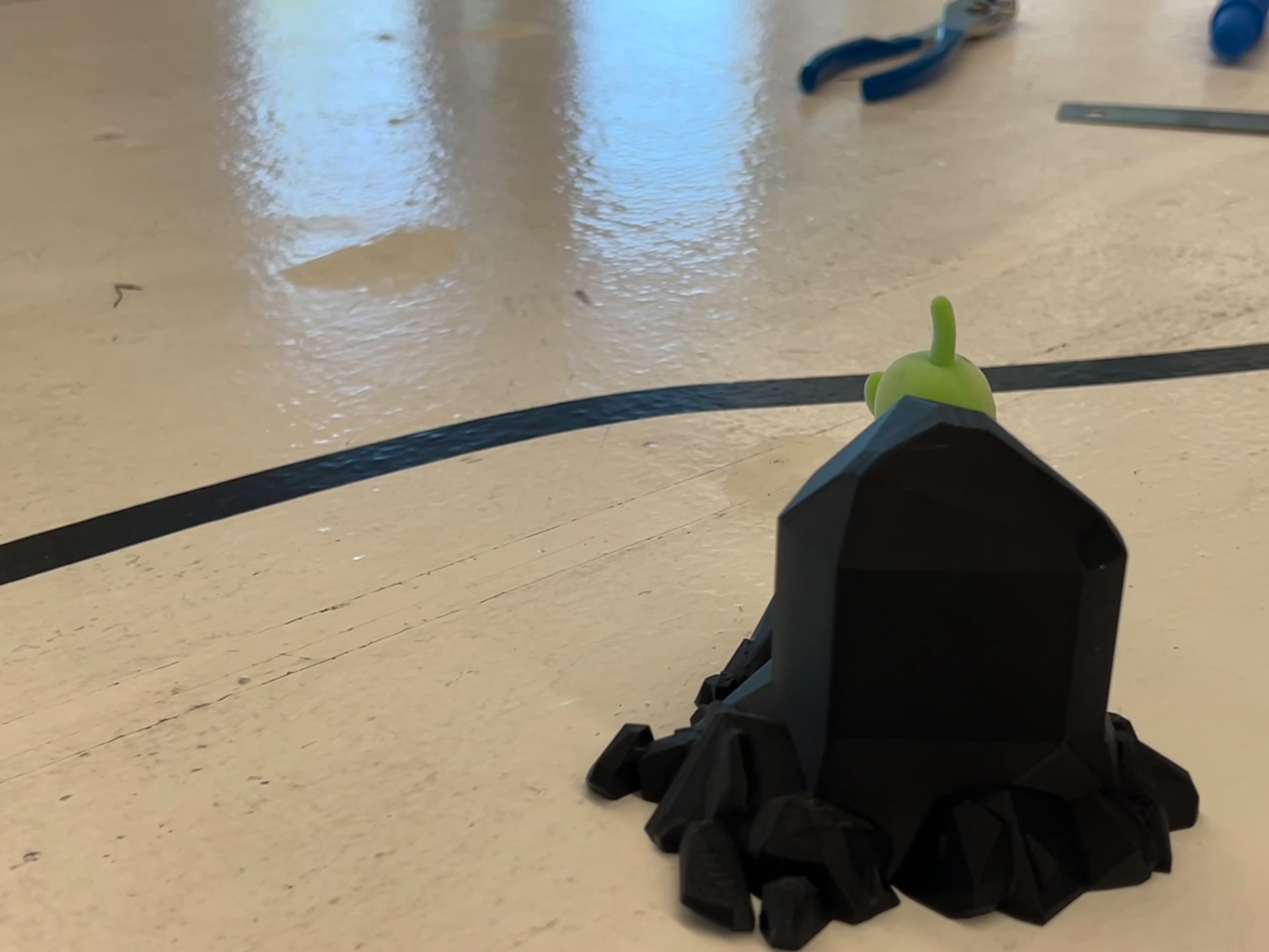teletubby: (865, 296, 995, 418)
